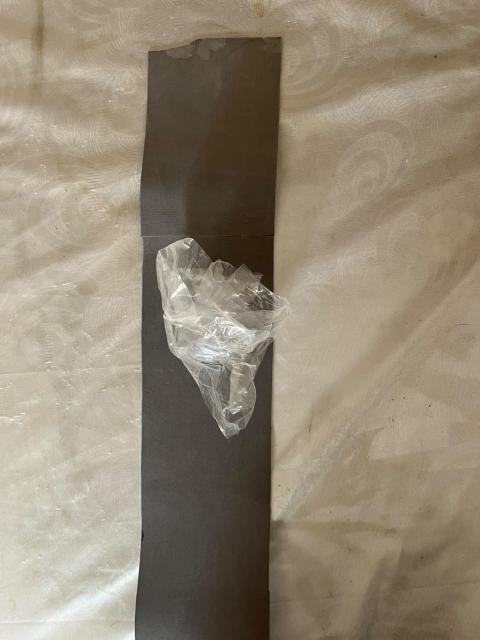LDPE: (143, 217, 297, 458)
